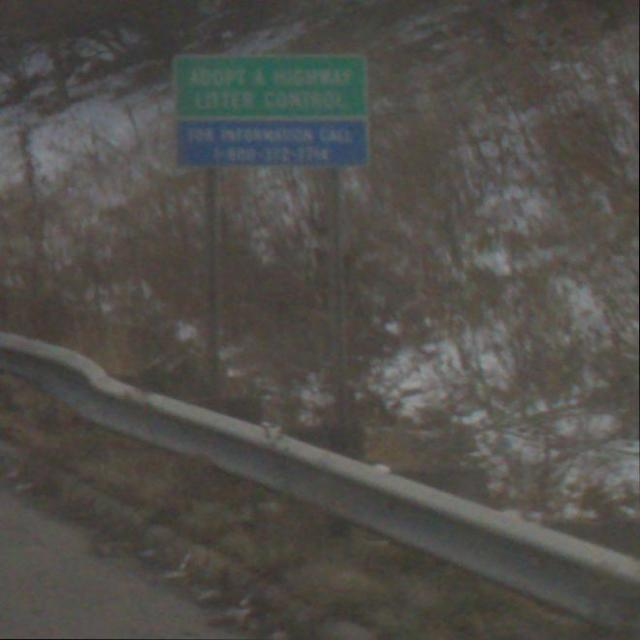Guard rail: (0, 322, 640, 640)
